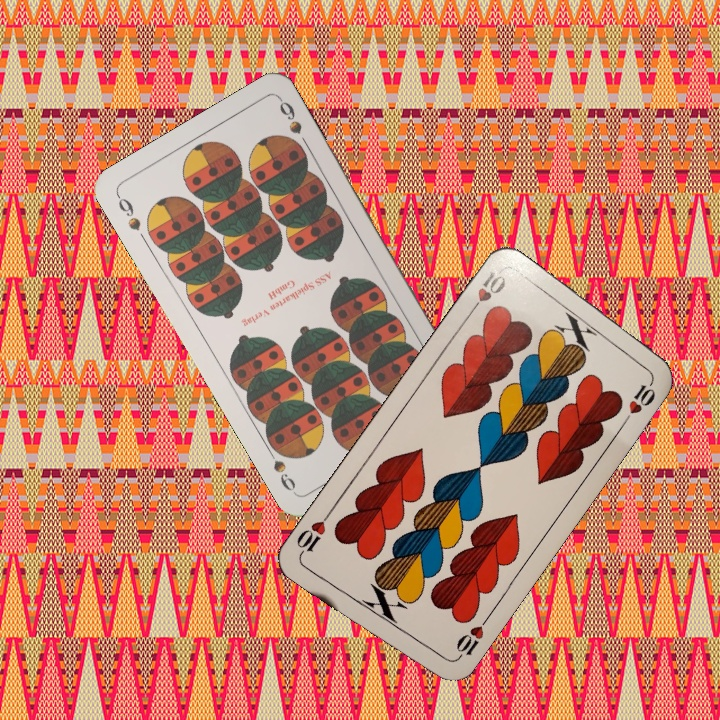H10: (464, 267, 509, 319), (449, 614, 491, 665)
S9: (112, 190, 144, 234)
